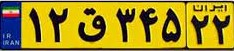character: (75, 6, 109, 44), (47, 5, 72, 44), (161, 5, 184, 47), (114, 6, 137, 44), (139, 6, 160, 45), (27, 5, 44, 45), (190, 13, 211, 45), (212, 13, 232, 45)
